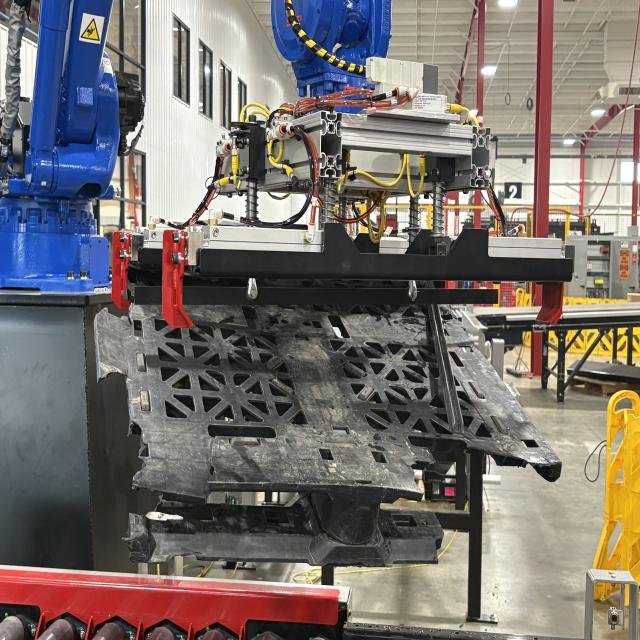igps: (87, 299, 569, 546)
